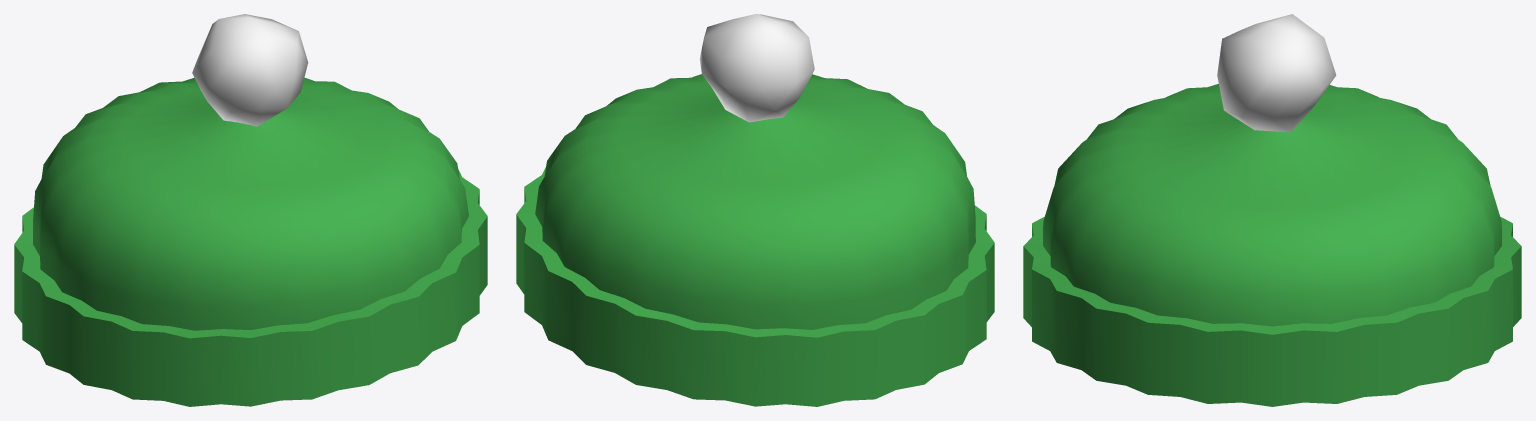
File: acc_beanie.glb
3 views of the same model, side by side, from view 1: azimuth 30°, elevation 25°; view 2: azimuth 150°, elevation 25°; view 3: azimuth 270°, elevation 25° (orthographic). The views are drawn at different scales.
Parts seen in each view (by area): view 1: Beanie; view 2: Beanie; view 3: Beanie.
Part boxes in pixels (bbox=[...]): Beanie: bbox=[14, 14, 487, 406]; Beanie: bbox=[516, 14, 994, 406]; Beanie: bbox=[1023, 14, 1521, 406].
Bounding box in the file's own units: 0.532 × 0.3678 × 0.532.
